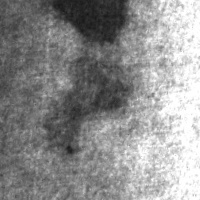patches: (48, 51, 124, 153), (48, 0, 132, 47)
